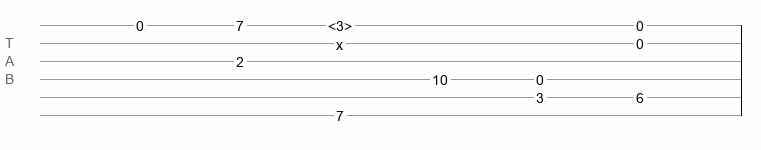0: (136, 18, 144, 28), (536, 72, 544, 82), (636, 36, 644, 46), (636, 18, 644, 28)
10: (432, 72, 448, 82)
2: (236, 54, 244, 64)
3: (536, 90, 544, 100)
6: (636, 90, 644, 100)
7: (236, 18, 244, 28), (336, 108, 344, 118)
harmonic: (328, 18, 352, 28)
x: (336, 37, 343, 45)
